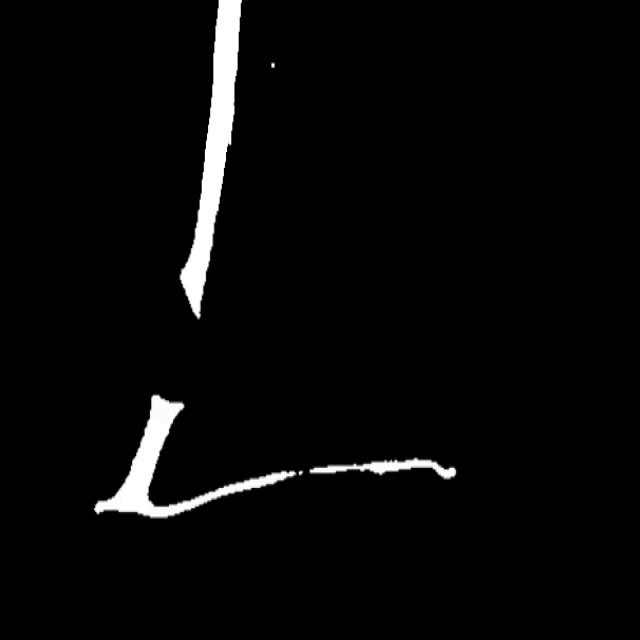inf: (288, 464, 317, 486)
